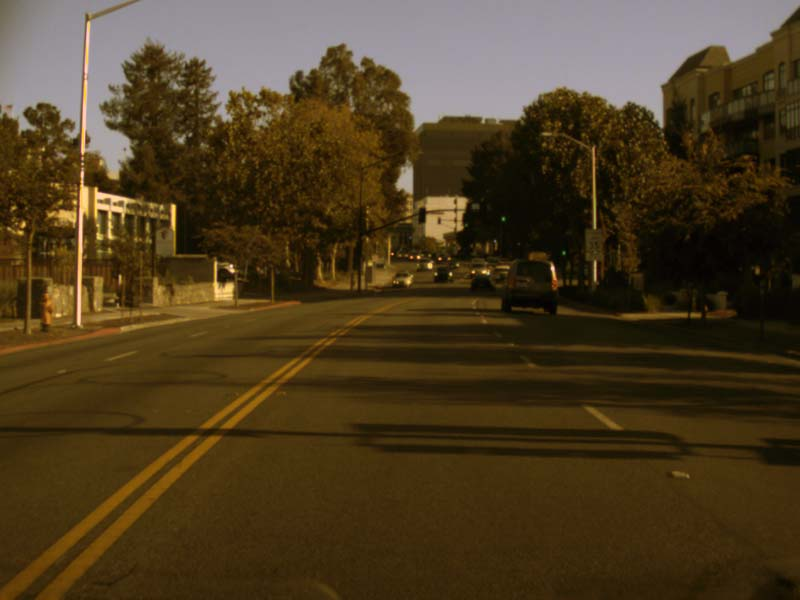Green: (559, 241, 569, 258), (499, 211, 506, 225), (464, 222, 468, 227)
